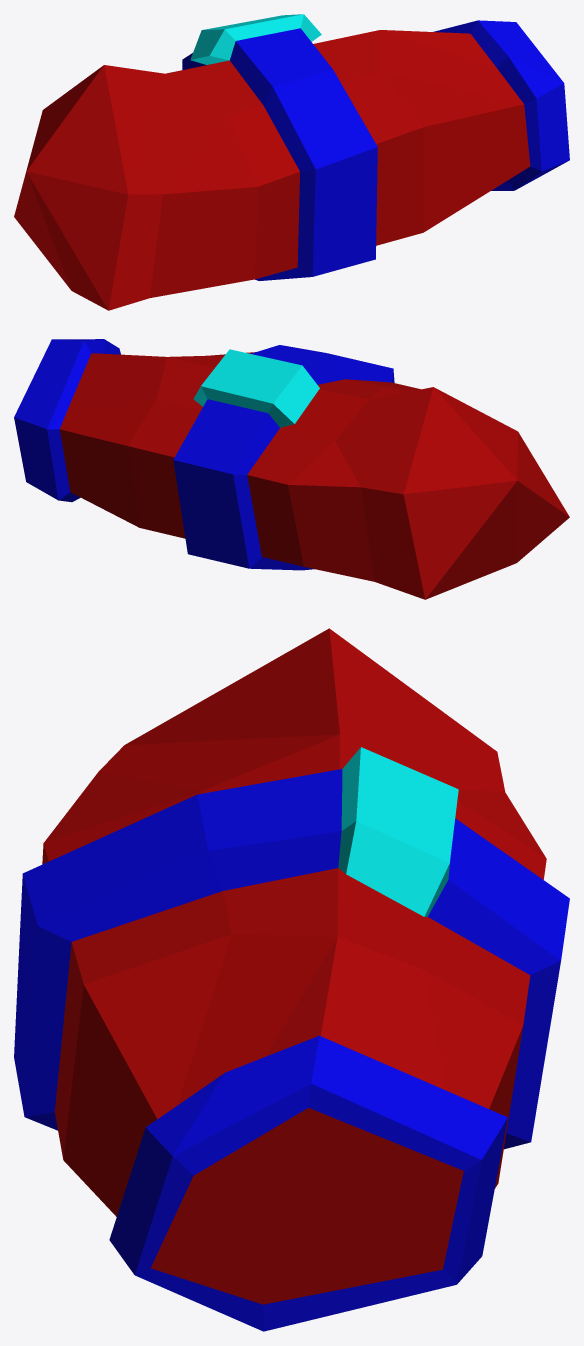
The model's file is Chr_ArmUpperLeft_Male_Static_16.fbx.
3 renders of one model, top to bottom at view 1: azimuth 30°, elevation 25°; view 2: azimuth 150°, elevation 25°; view 3: azimuth 270°, elevation 25°, orthographic. The views are drawn at different scales.
Parts seen in each view (by area): view 1: Chr_ArmUpperLeft_Male_16; view 2: Chr_ArmUpperLeft_Male_16; view 3: Chr_ArmUpperLeft_Male_16.
Boxes of the visible parts, left/top/right/bottom form: Chr_ArmUpperLeft_Male_16: left=14, top=14, right=569, bottom=310; Chr_ArmUpperLeft_Male_16: left=14, top=339, right=569, bottom=599; Chr_ArmUpperLeft_Male_16: left=14, top=628, right=569, bottom=1331.
Size of the model in its own units: 33.45 by 14.56 by 17.76.
